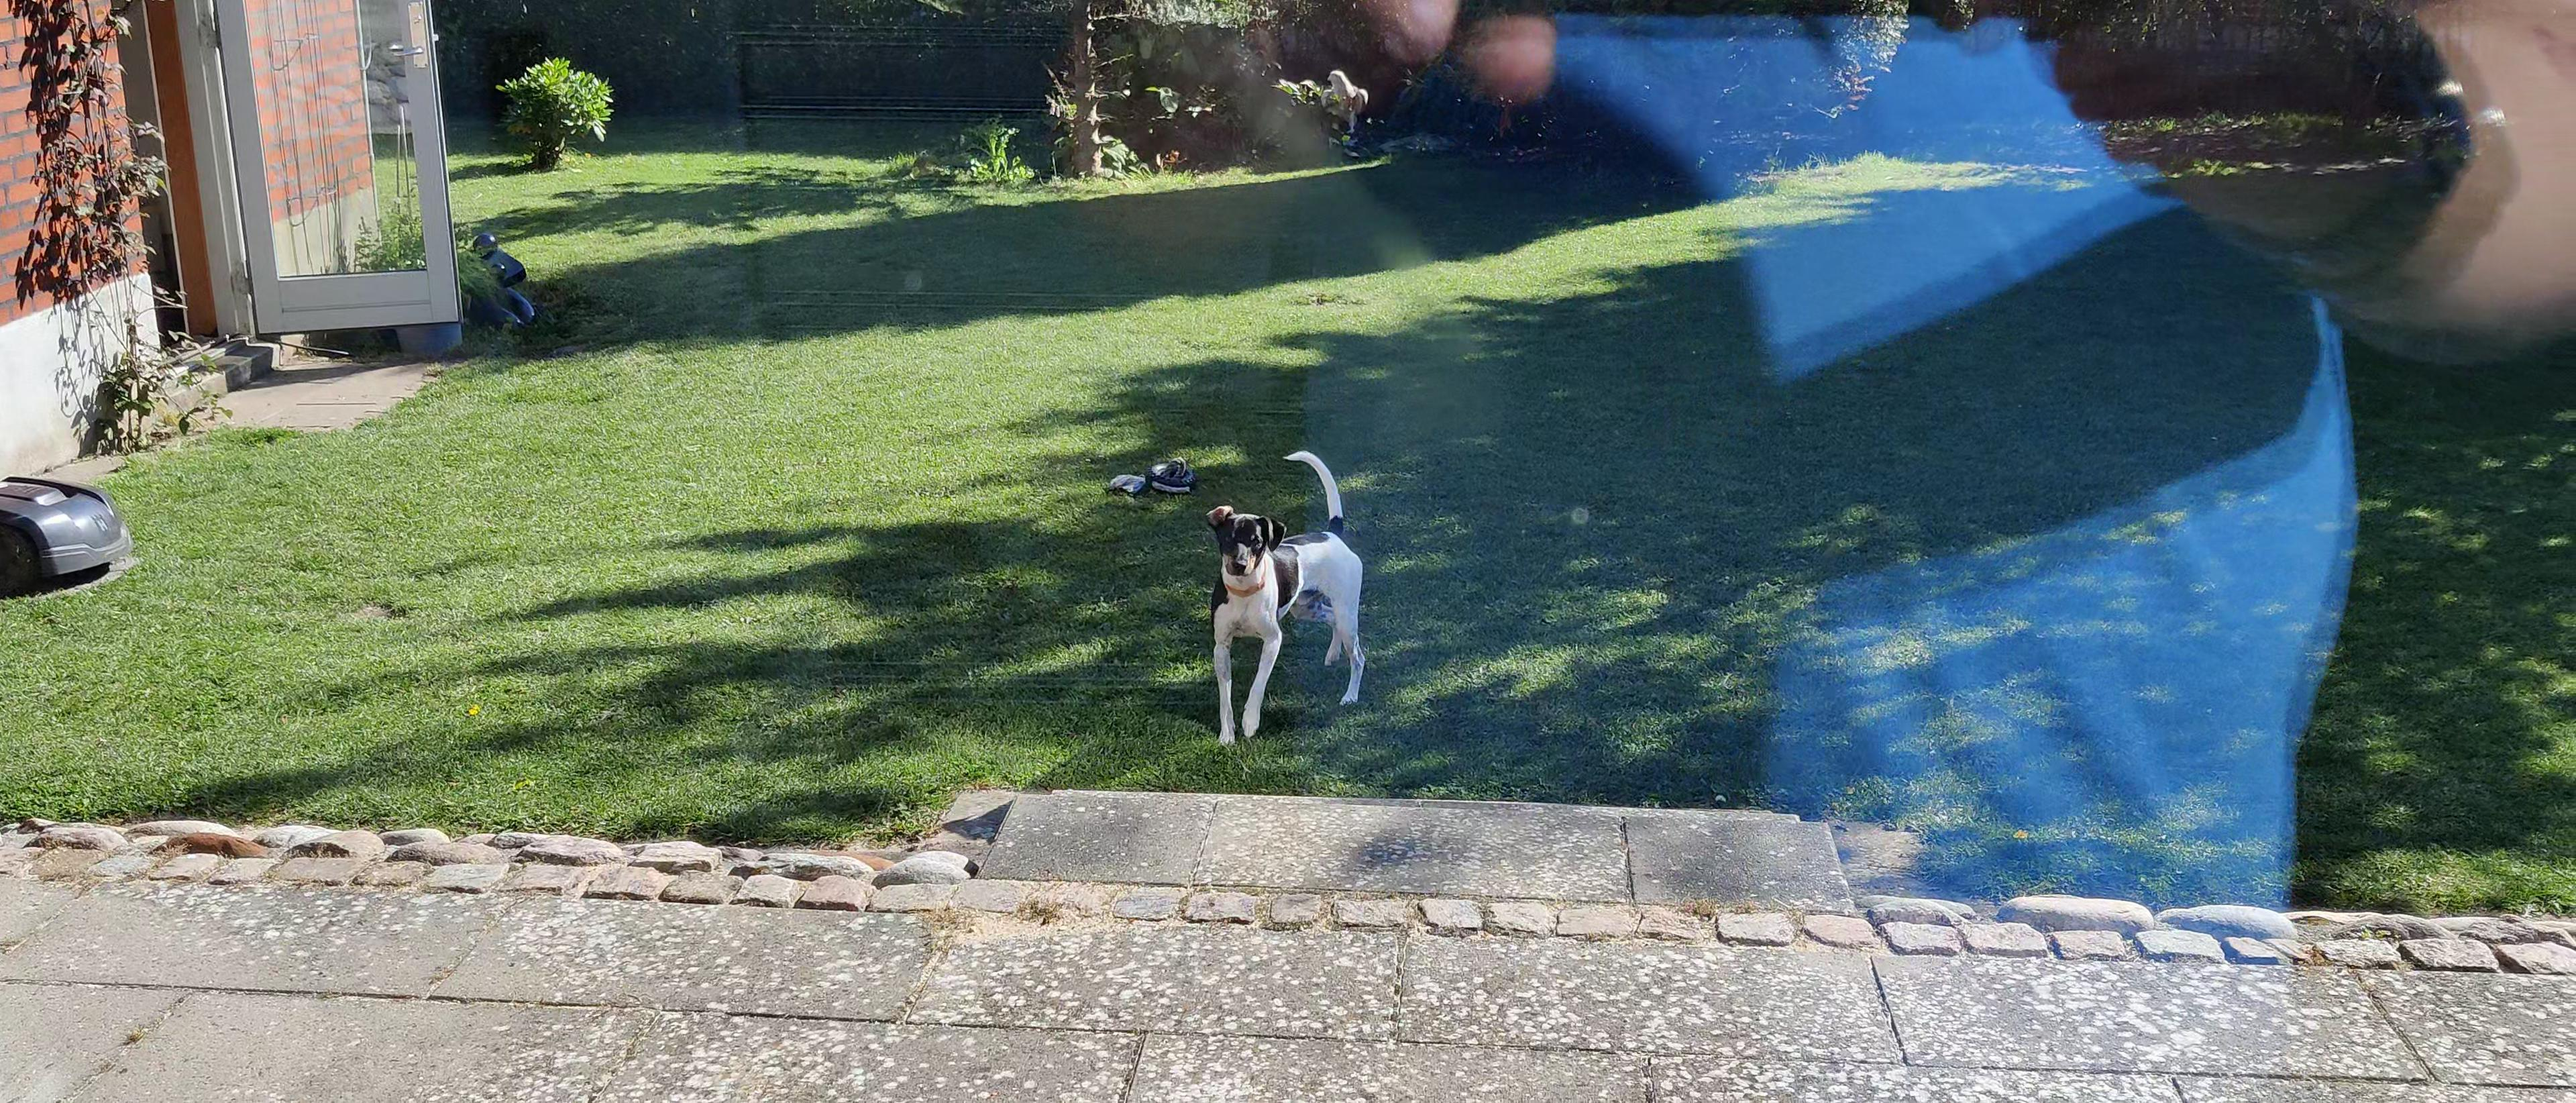Dog: (1198, 442, 1373, 748)
